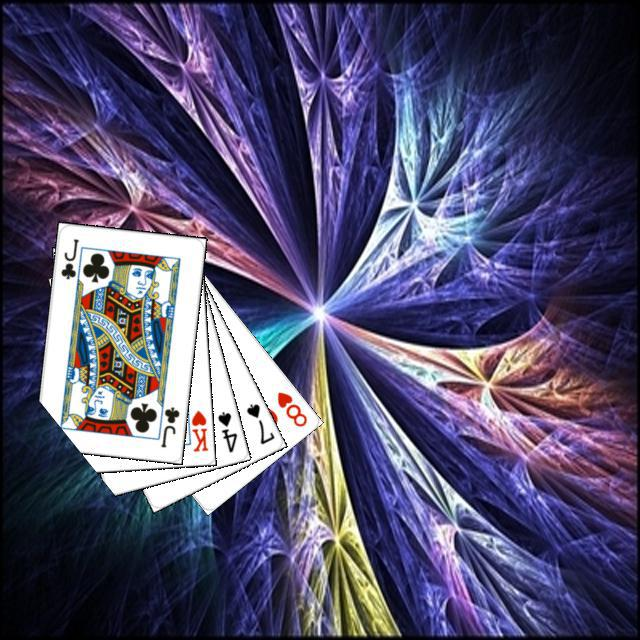4s: (213, 406, 239, 454)
7s: (241, 399, 276, 446)
8h: (272, 387, 309, 429)
Jc: (156, 402, 181, 449), (56, 234, 80, 281)
Kh: (182, 402, 210, 453)
